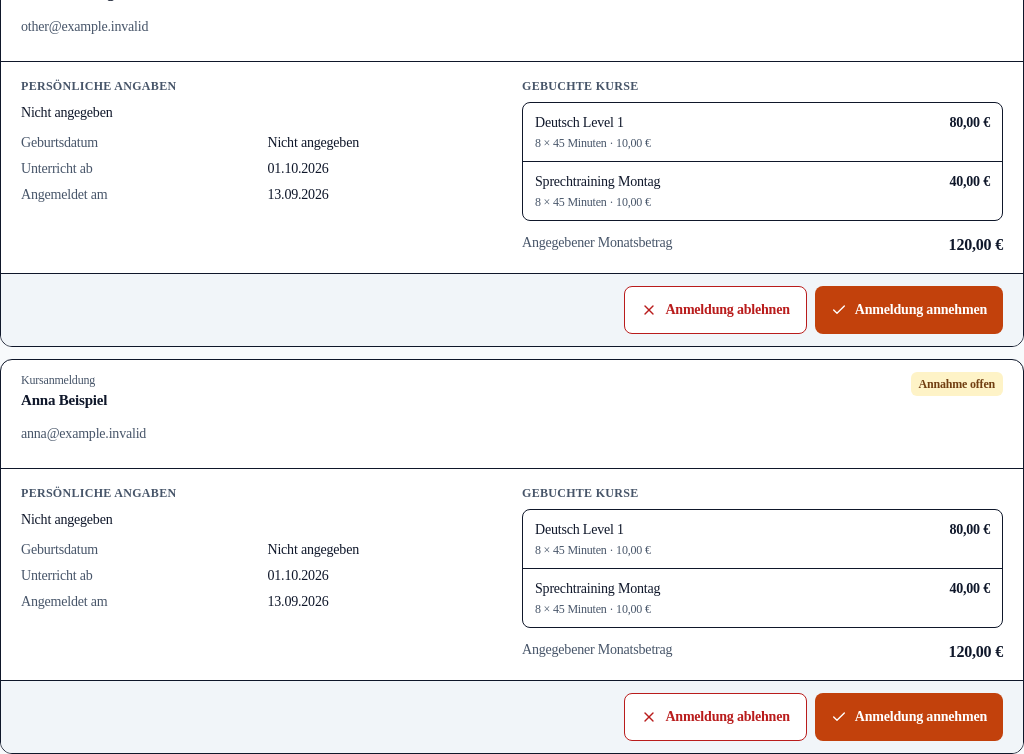
it: declines only the explicitly confirmed booking and shows its new status (trial=false)
This screenshot has width=1024, height=754.
(page scrolled)
Step 1. Click the 2nd button "Anmeldung ablehnen" → point(716, 717), box 624,693 -> 807,741
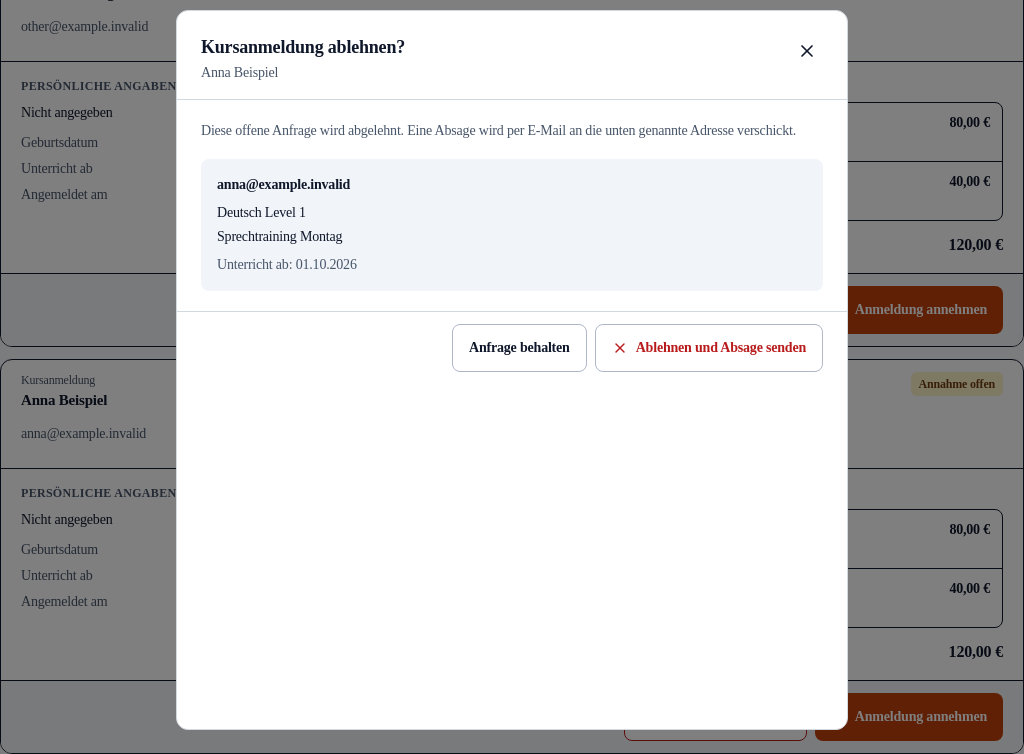
Step 2. Click the button "Ablehnen und Absage senden" → point(709, 348), box 595,324 -> 823,372
(page scrolled)
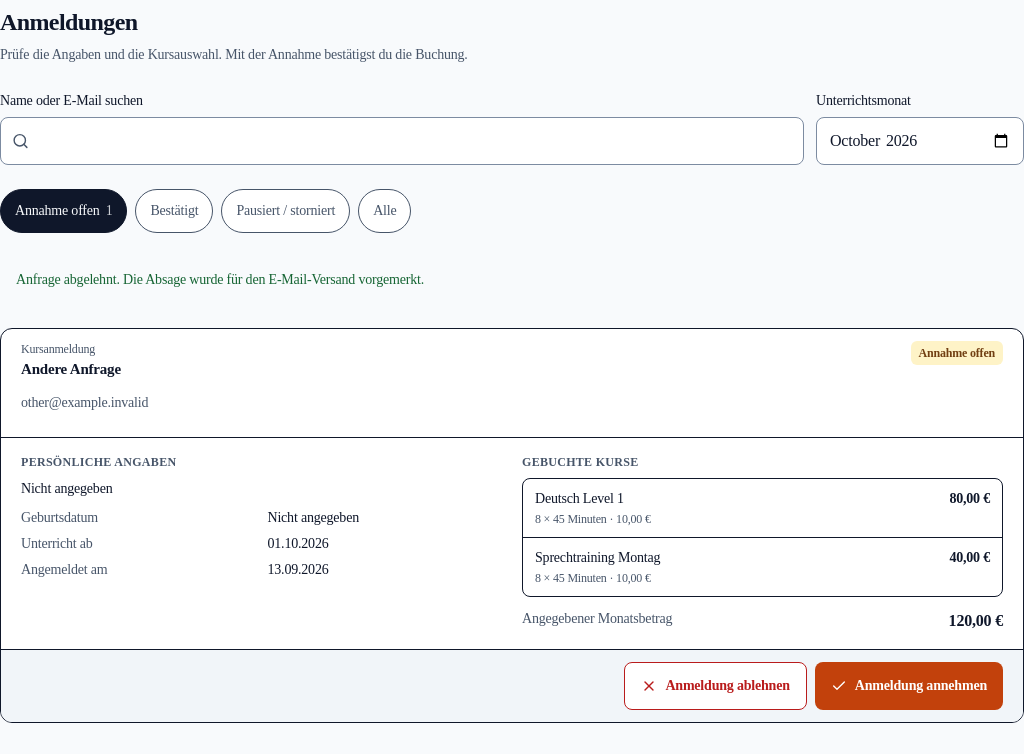
Expected: the dialog is gone
Expected: the message reads "Anfrage abgelehnt. Die Absage wurde für den E-Mail-Versand vorgemerkt.", 16,272 -> 424,287
Expected: the heading "Anna Beispiel" is gone
Step 3. Click the button "Pausiert / storniert" → point(286, 211), box 222,189 -> 350,233
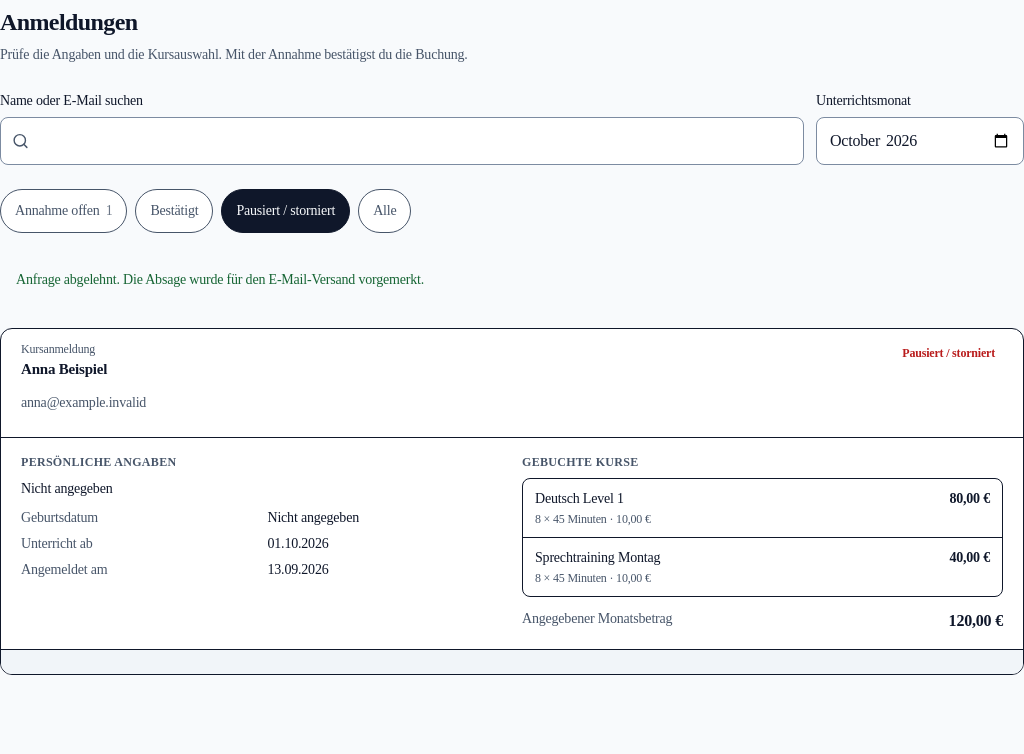
Expected: the text "Pausiert / storniert" is shown, 902,346 -> 995,360
Expected: the button "Anmeldung ablehnen" is gone
Expected: the heading "Andere Anfrage" is gone
